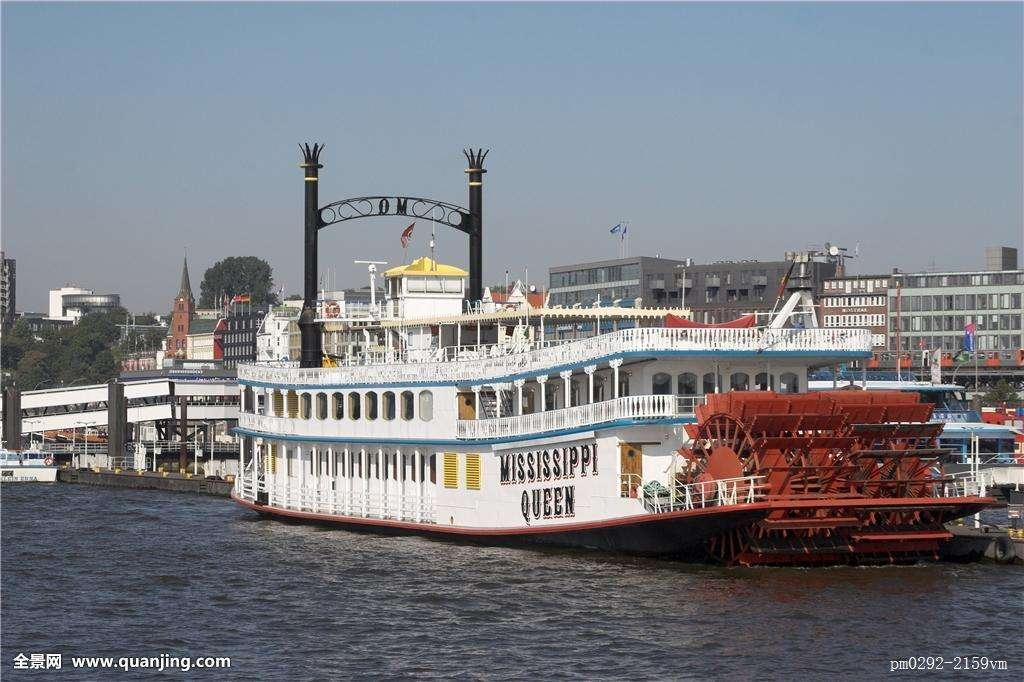youlun: (213, 205, 987, 540)
